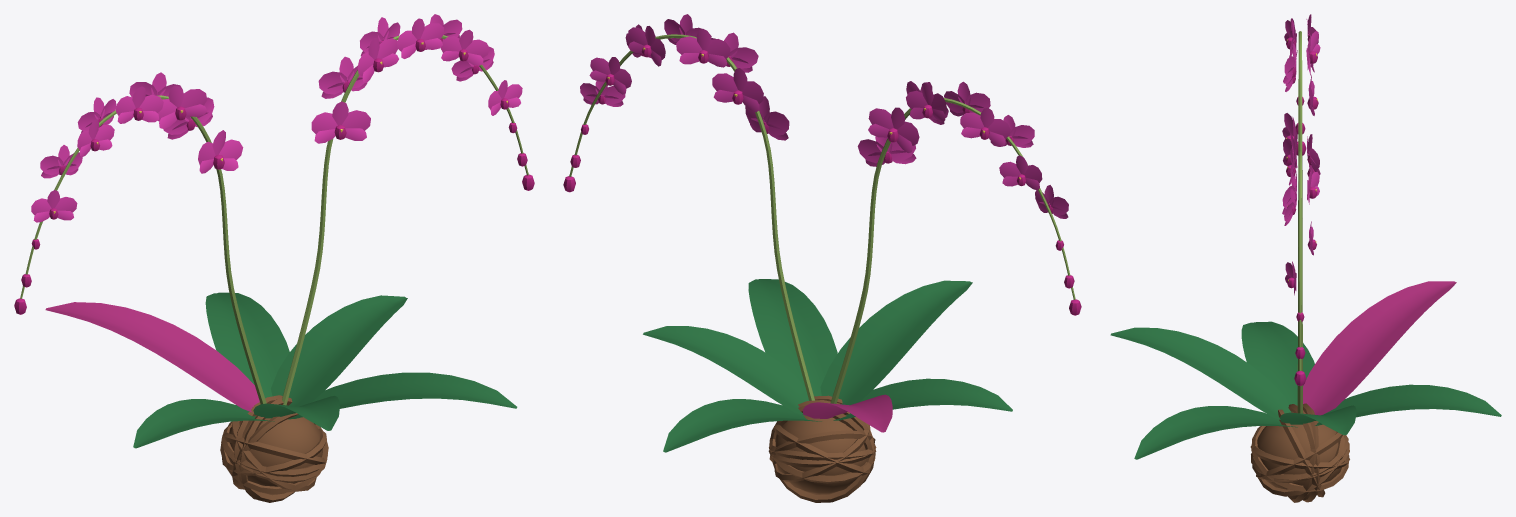
The model's file is JAC_14_Orquidea.glb.
The picture shows the model from 3 angles, left to right: view 1: azimuth 30°, elevation 25°; view 2: azimuth 150°, elevation 25°; view 3: azimuth 270°, elevation 25°; orthographic projection. The views are drawn at different scales.
Parts seen in each view (by area): view 1: JAC_14_Orquidea; view 2: JAC_14_Orquidea; view 3: JAC_14_Orquidea.
Boxes of the visible parts, x1,y1,x2,y2 form: JAC_14_Orquidea: (14, 14, 534, 502); JAC_14_Orquidea: (563, 14, 1081, 502); JAC_14_Orquidea: (1110, 14, 1501, 502).
Bounding box in the file's own units: 1.08 × 0.8958 × 0.7635.
